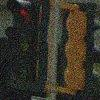traffic lights: (63, 0, 100, 97), (2, 0, 40, 80)
